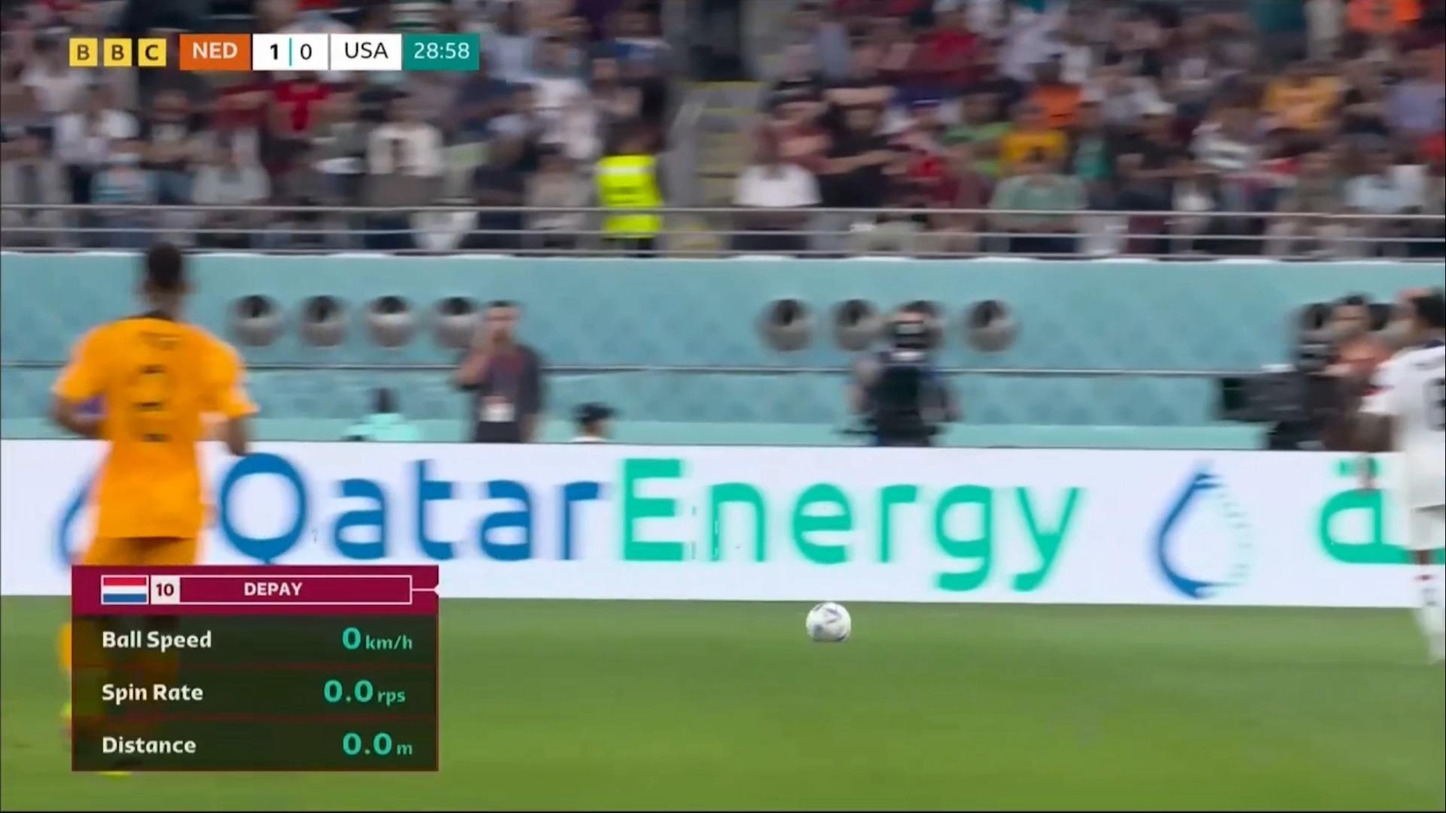Ball: (803, 601, 851, 645)
Player: (54, 235, 254, 774), (1354, 282, 1446, 661), (452, 300, 543, 444)
